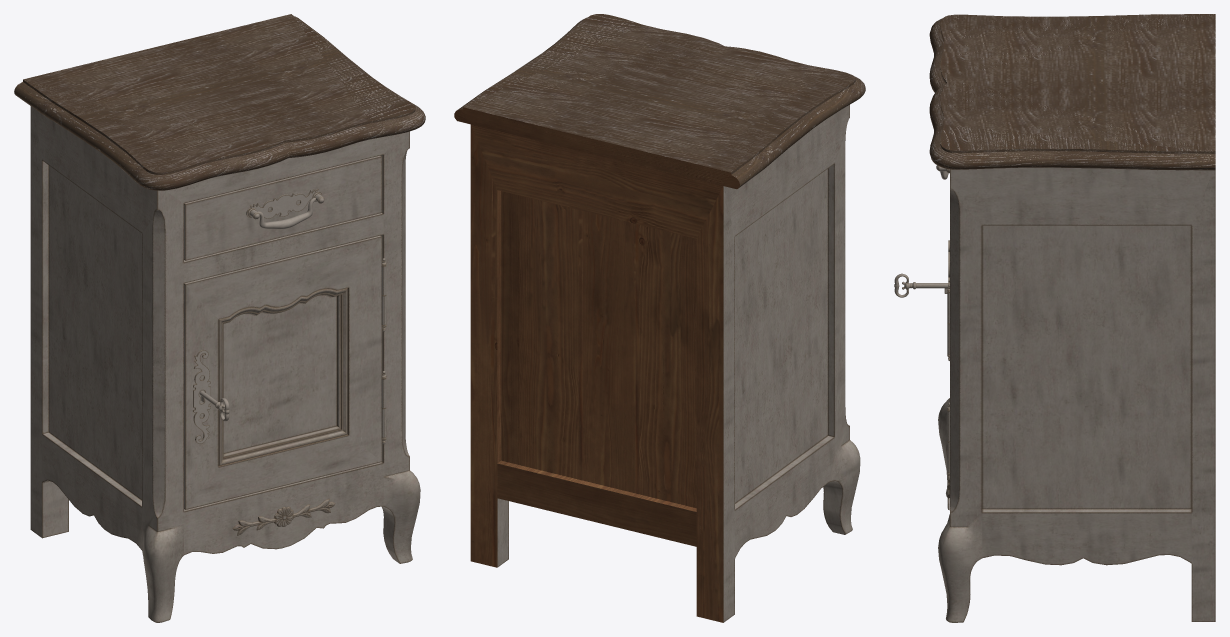
File: example48.gltf
3 renders of one model, left to right at view 1: azimuth 30°, elevation 25°; view 2: azimuth 150°, elevation 25°; view 3: azimuth 270°, elevation 25°, orthographic. The views are drawn at different scales.
Size of the model in its own units: 42.99 by 65 by 39.92.
Materials: 4 (4 with a texture image).
